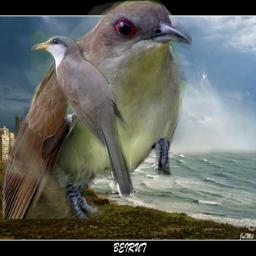Cuckoo: (2, 0, 192, 219), (31, 33, 138, 201)
